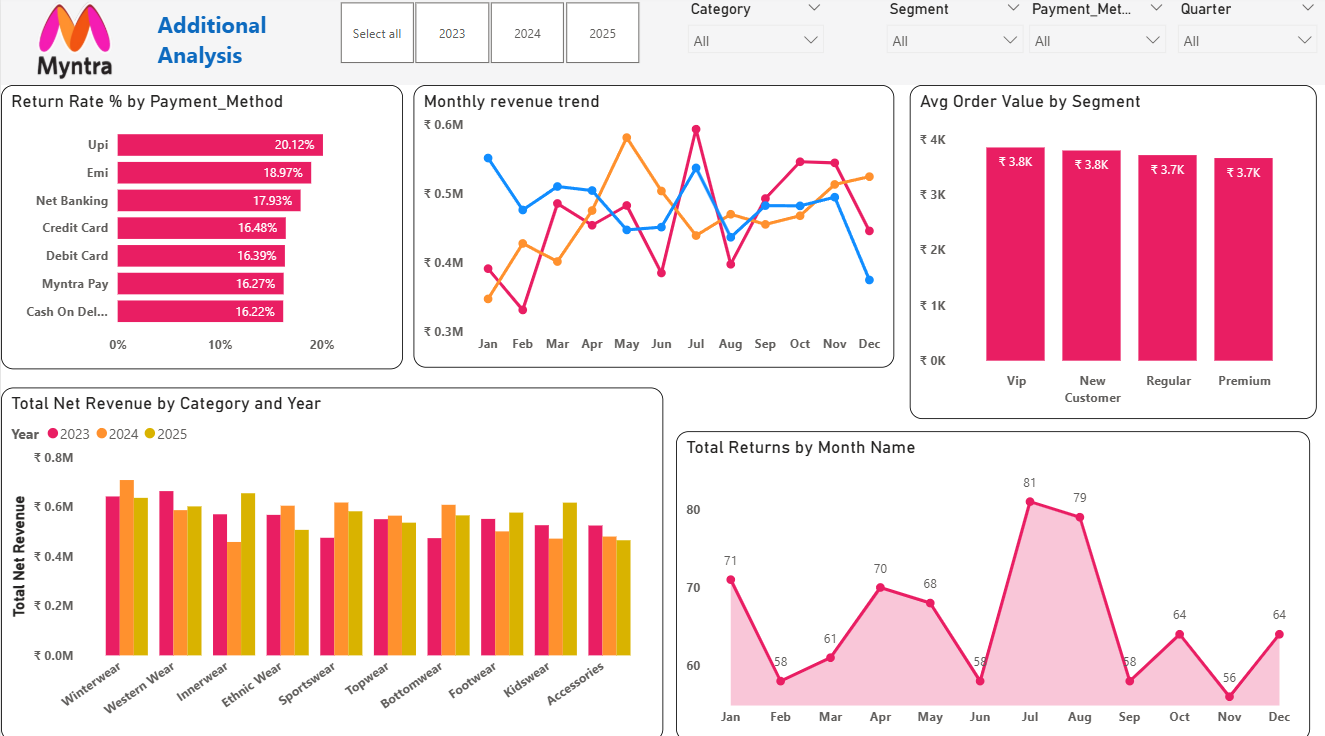

The page's visual inventory and layout, read from the dashboard file:
{"tool":"powerbi","page":{"name":"Additional Analysis","canvas":[1280,720],"ordinal":3},"visuals":[{"type":"shape","box":[0,86.4,1280.3,634],"z":0},{"type":"clusteredBarChart","fields":{"Category":["fact_sales.Payment_Method"],"Y":["return_measures.Return Rate %"]},"box":[0,86.4,388.3,274.4],"z":1000},{"type":"columnChart","fields":{"Category":["dim_customer.Segment"],"Y":["return_measures.Avg Order Value"]},"box":[876.8,86.4,392.5,322.5],"z":2000},{"type":"lineChart","title":"Monthly revenue trend","fields":{"Category":["Date_Table.Month Name"],"Y":["sales_measures.Total Net Revenue"],"Series":["Date_Table.Year"]},"box":[397.9,86.4,463.8,273.1],"z":3000},{"type":"clusteredColumnChart","fields":{"Category":["dim_product.Category"],"Y":["sales_measures.Total Net Revenue"],"Series":["Date_Table.Year"]},"box":[0,378.7,639.5,341.7],"z":4000},{"type":"image","box":[0,0,145.5,86.4],"z":5000},{"type":"slicer","fields":{"Values":["Date_Table.Year"]},"box":[301.4,0,338.6,72.9],"z":6000},{"type":"textbox","box":[145.5,8.2,148.2,78.2],"z":7000},{"type":"slicer","fields":{"Values":["dim_product.Category"]},"box":[652.9,0,151.4,70],"z":8000},{"type":"slicer","fields":{"Values":["dim_customer.Segment"]},"box":[844.5,0,152,70],"z":9000},{"type":"slicer","fields":{"Values":["fact_sales.Payment_Method"]},"box":[982.5,0,152.3,70],"z":10000},{"type":"slicer","fields":{"Values":["Date_Table.Quarter"]},"box":[1125.2,0,155.1,72.7],"z":11000},{"type":"lineChart","fields":{"Y":["return_measures.Total Returns"],"Category":["Date_Table.Month Name"]},"box":[651.8,421.3,612,299.1],"z":12000}]}

Visuals, with their boxes in screenshot pixels (x1, y1, x2, y2), scaled from the page's 1280x720 canvas onto the 1325x736 screenshot:
shape: (0,88,1324,735)
clusteredBarChart - fact_sales.Payment_Method x return_measures.Return Rate %: (0,88,402,369)
columnChart - dim_customer.Segment x return_measures.Avg Order Value: (908,88,1314,418)
"Monthly revenue trend" lineChart: (412,88,892,367)
clusteredColumnChart - dim_product.Category x sales_measures.Total Net Revenue: (0,387,662,735)
image: (0,0,151,88)
slicer - Date_Table.Year: (312,0,662,75)
textbox: (151,8,304,88)
slicer - dim_product.Category: (676,0,833,72)
slicer - dim_customer.Segment: (874,0,1032,72)
slicer - fact_sales.Payment_Method: (1017,0,1175,72)
slicer - Date_Table.Quarter: (1165,0,1324,74)
lineChart - return_measures.Total Returns x Date_Table.Month Name: (675,431,1308,735)
